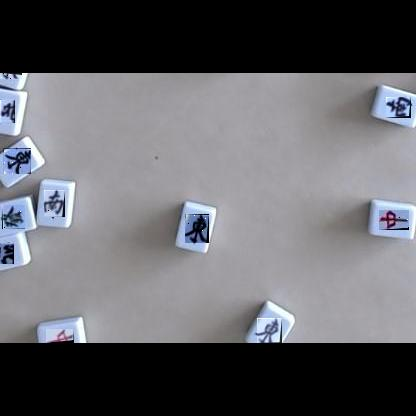1z: (3, 148, 31, 174), (185, 214, 209, 243), (257, 318, 282, 343), (0, 73, 22, 79)
2z: (44, 190, 65, 217), (386, 97, 411, 118)
4z: (0, 99, 15, 123), (0, 243, 14, 264)
6z: (2, 205, 25, 229)
7z: (379, 210, 409, 230), (46, 329, 74, 343)
